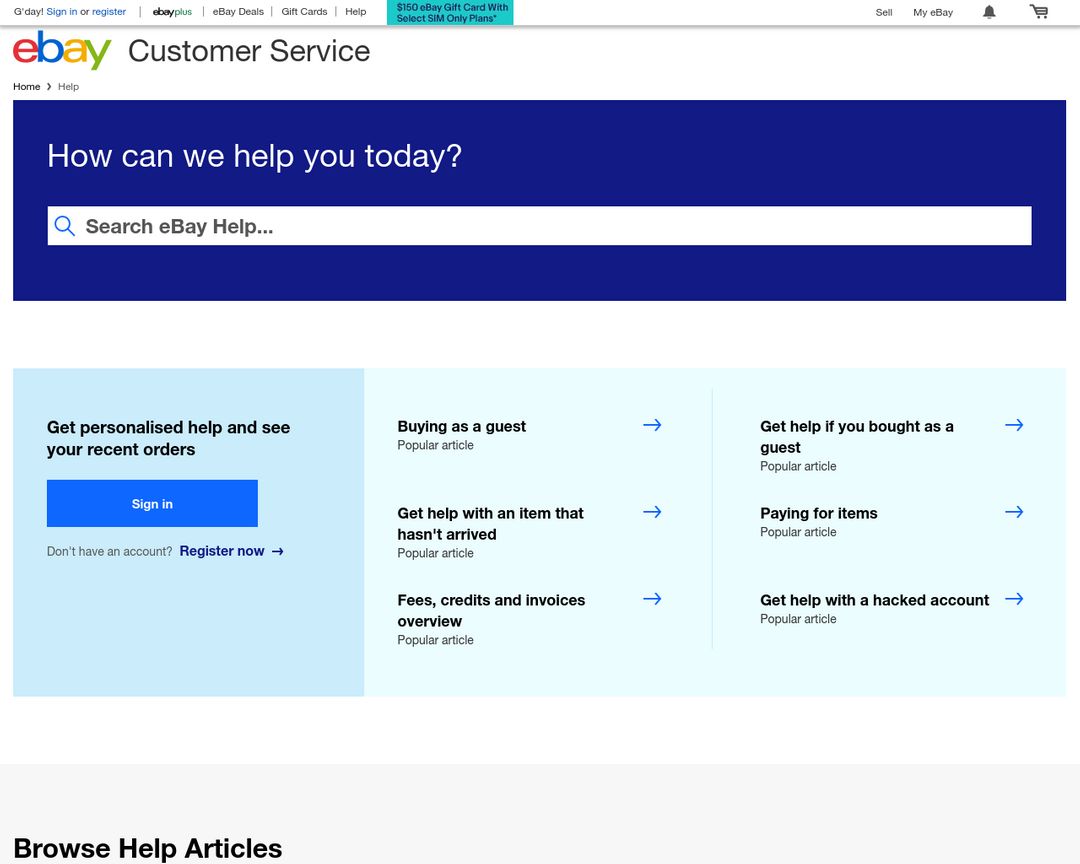Ebay: (9, 28, 118, 73)
